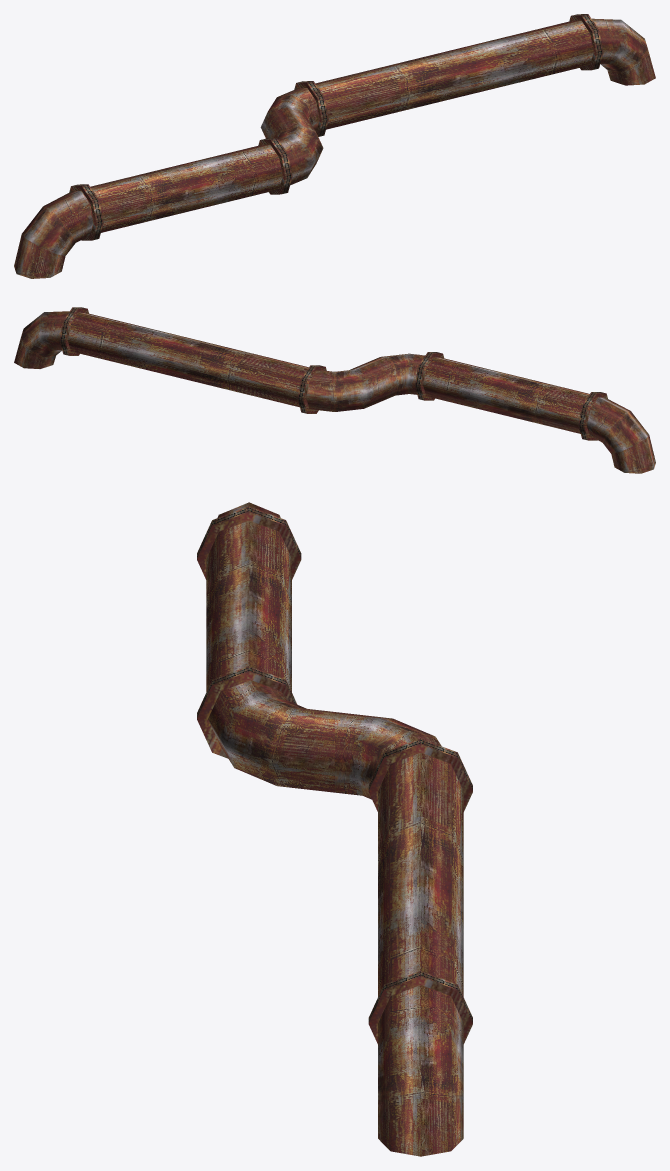
File: s_bend_rusty_4m.fbx
3 renders of one model, top to bottom at view 1: azimuth 30°, elevation 25°; view 2: azimuth 150°, elevation 25°; view 3: azimuth 270°, elevation 25°, orthographic. The views are drawn at different scales.
Visible parts, largest first — view 1: mesh_0; view 2: mesh_0; view 3: mesh_0.
Boxes of the visible parts, left/top/right/bottom form: mesh_0: left=14, top=14, right=655, bottom=278; mesh_0: left=14, top=307, right=655, bottom=473; mesh_0: left=197, top=502, right=472, bottom=1156.
Size of the model in its own units: 400 by 40.17 by 80.47.
Materials: 1 (1 with a texture image).
